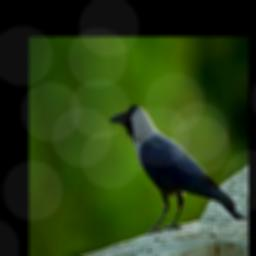Crow: (108, 105, 245, 231)
